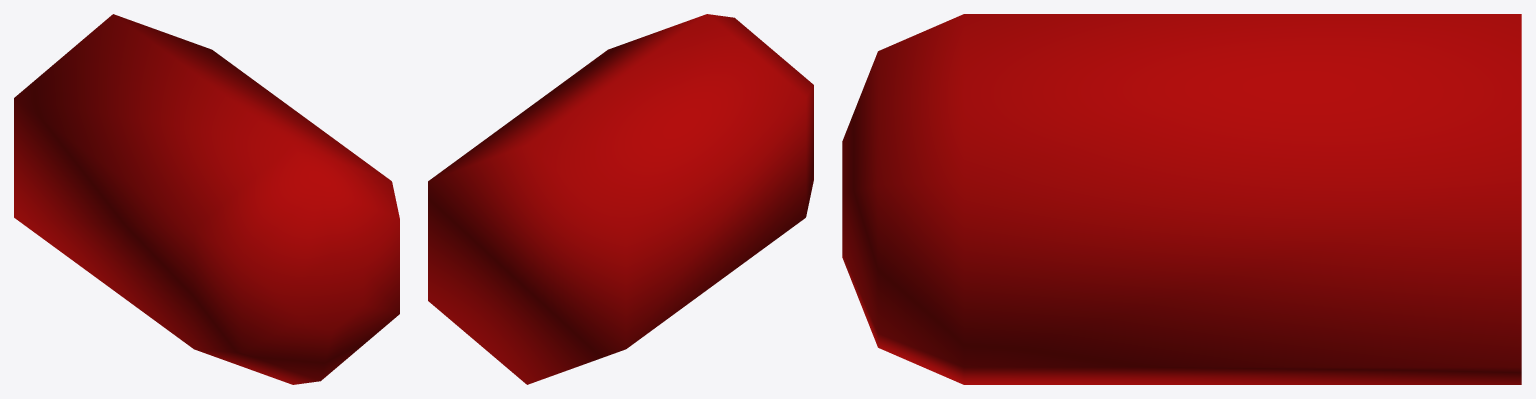
Rendered from Bala.fbx.
3 renders of one model, left to right at view 1: azimuth 30°, elevation 25°; view 2: azimuth 150°, elevation 25°; view 3: azimuth 270°, elevation 25°, orthographic. The views are drawn at different scales.
Visible parts, largest first — view 1: BulletG; view 2: BulletG; view 3: BulletG.
Part boxes in pixels (box(x1,y1,x2,y2)): BulletG: box(14, 14, 399, 384); BulletG: box(428, 14, 813, 384); BulletG: box(842, 14, 1521, 384).
Bounding box in the file's own units: 0.0507 × 0.0585 × 0.0971.
